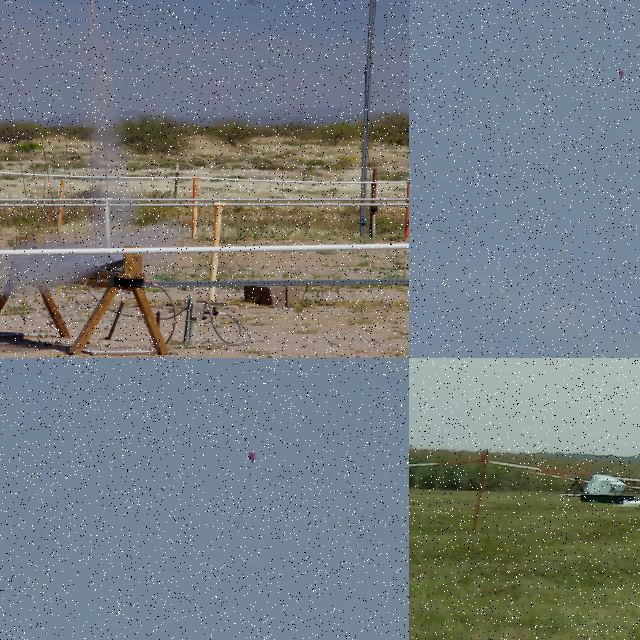Rocket: (220, 596, 223, 608), (594, 175, 598, 183)
